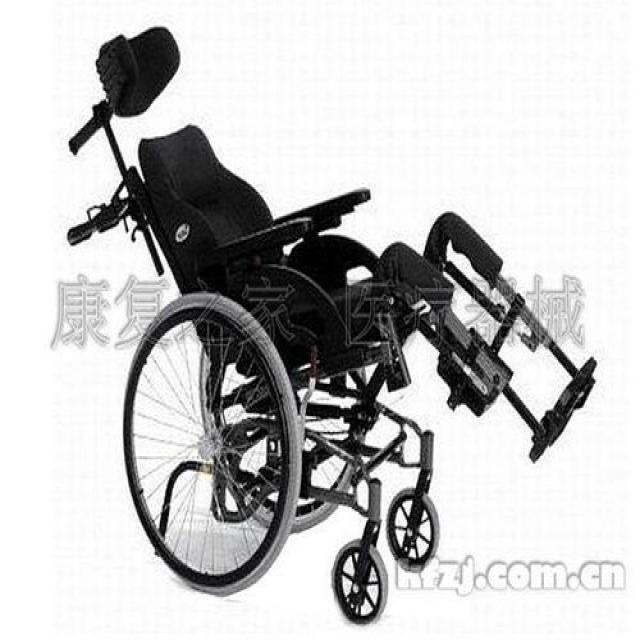wheelchairs: (66, 24, 596, 622)
